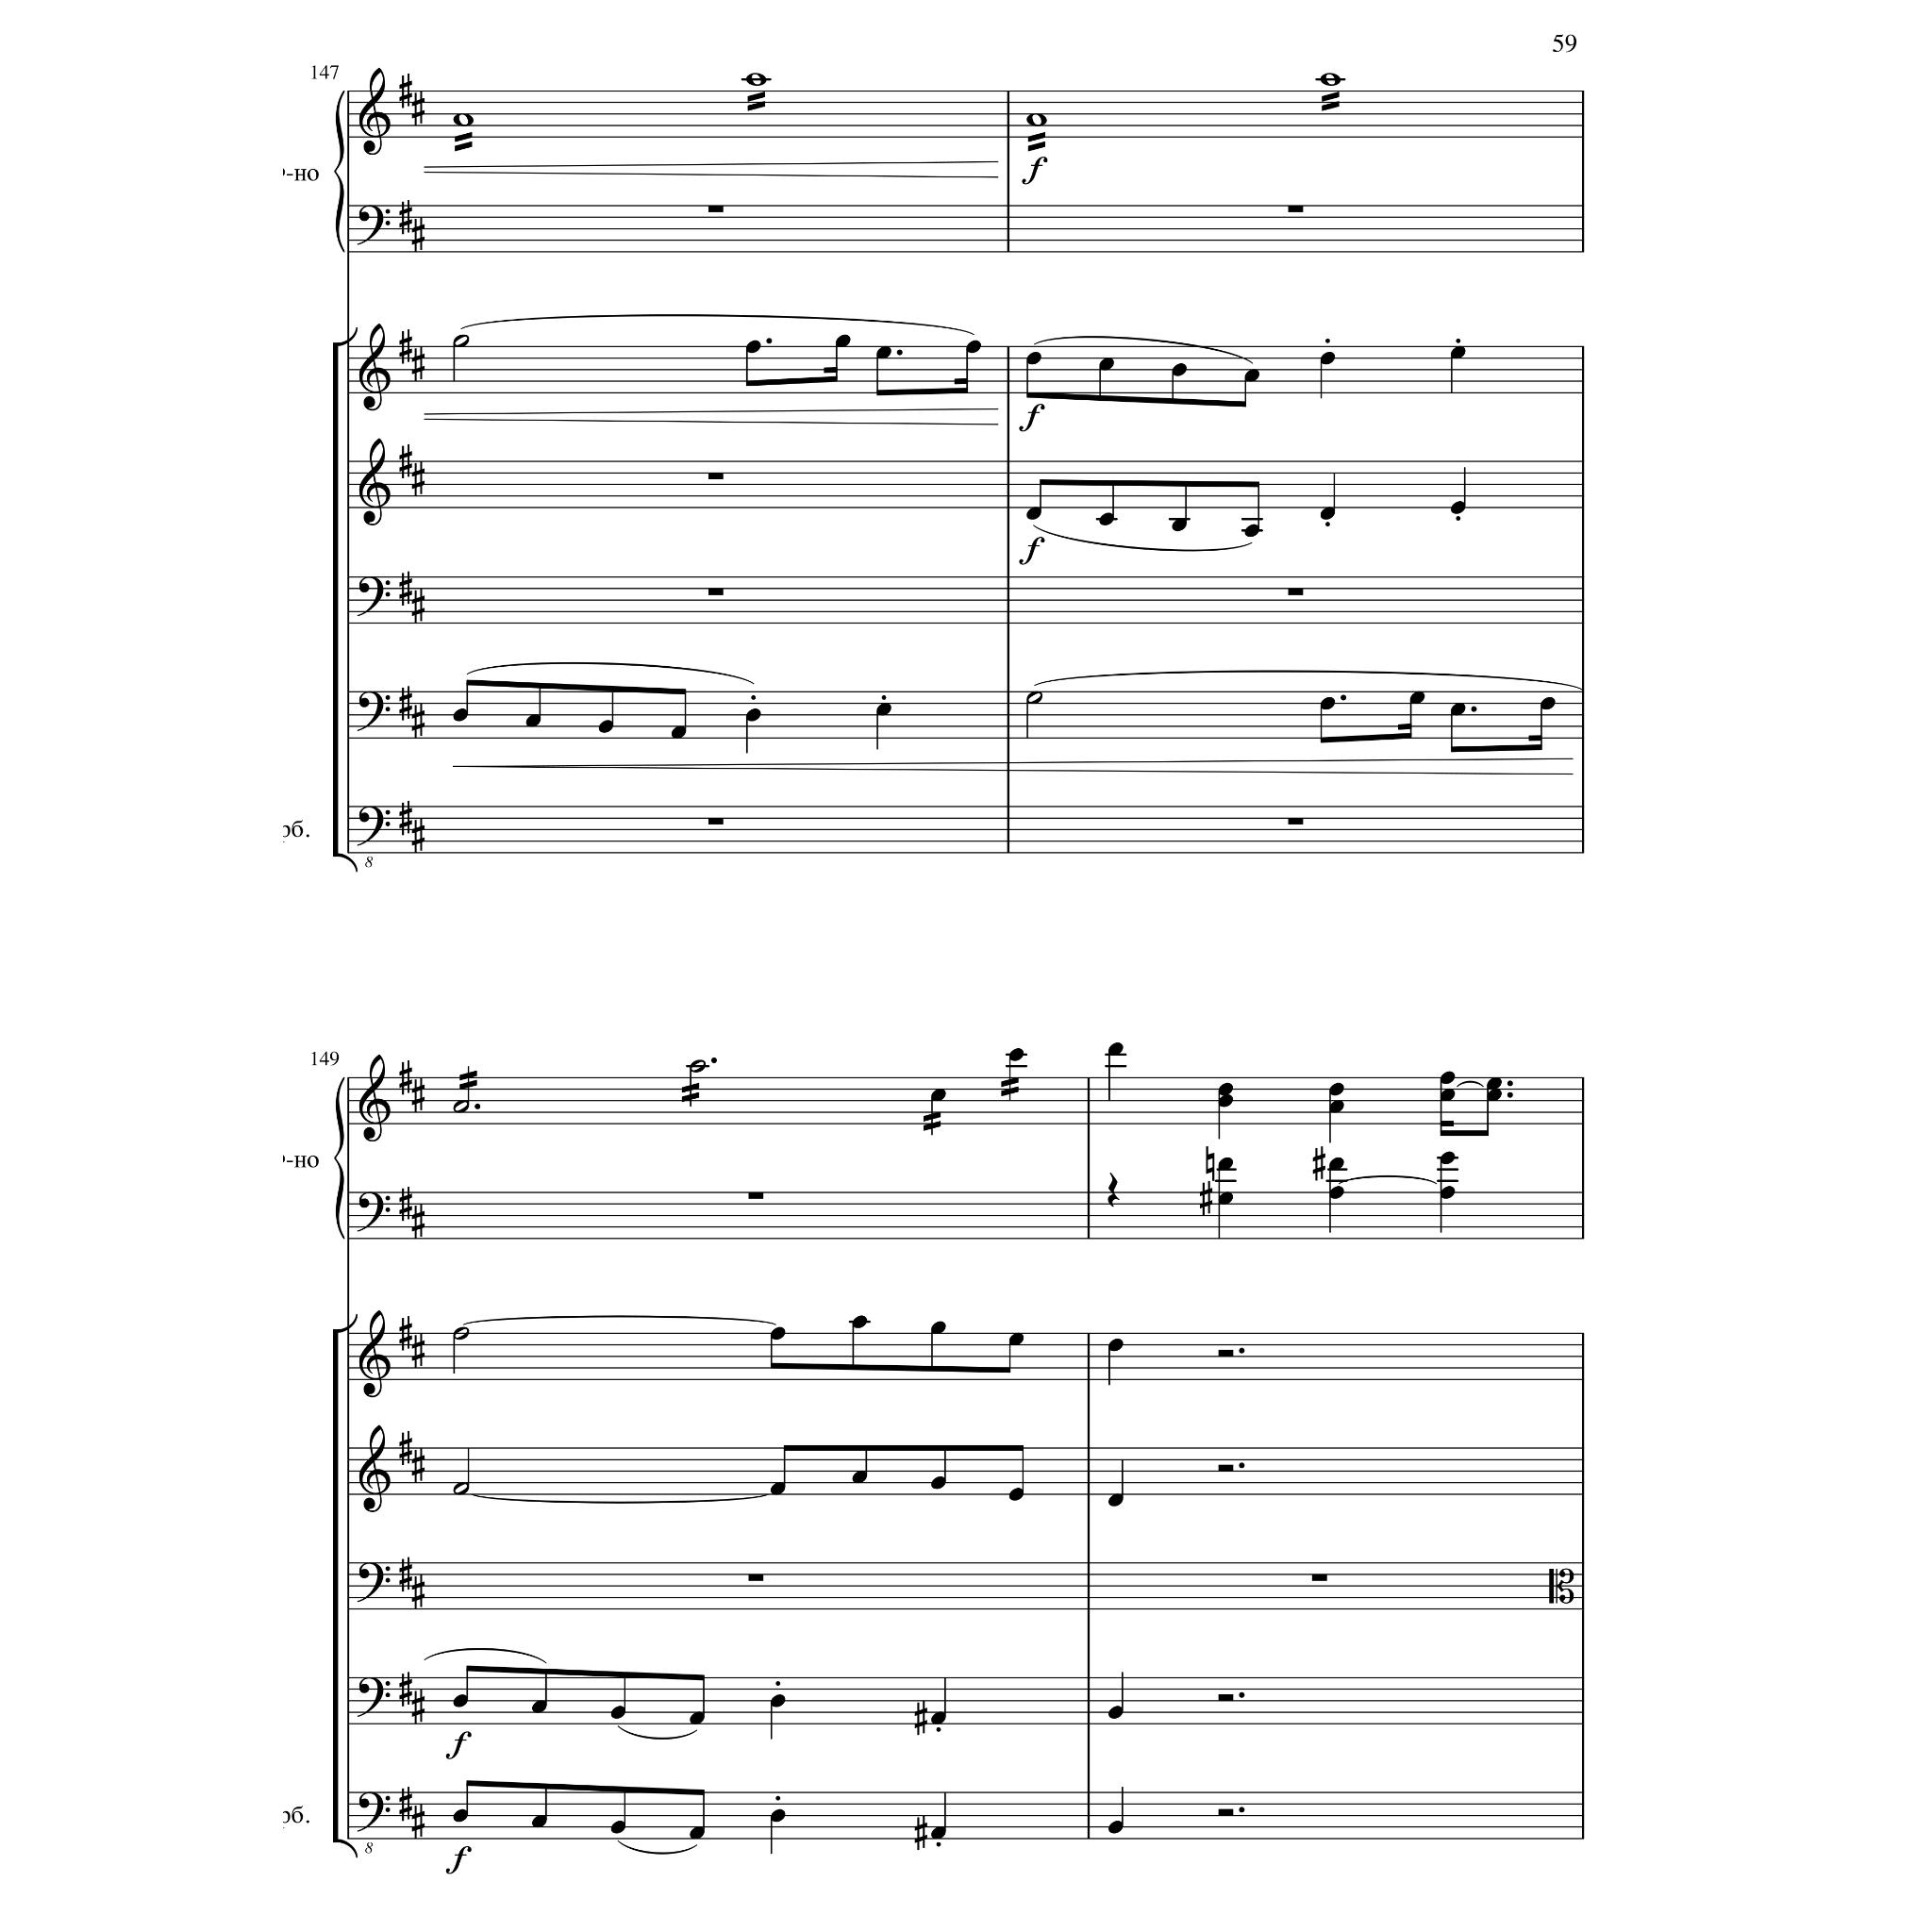brace: (333, 91, 344, 253), (333, 1077, 344, 1240)
fClef: (357, 806, 391, 847), (357, 691, 391, 732), (357, 577, 391, 617), (357, 206, 391, 245), (357, 1792, 391, 1832), (357, 1677, 391, 1717), (357, 1562, 391, 1602), (357, 1192, 391, 1232)
gClef: (358, 438, 391, 526), (358, 324, 391, 412), (358, 67, 391, 156), (358, 1424, 391, 1513), (358, 1309, 391, 1398), (358, 1054, 391, 1142)
noteheadBlack: (1319, 351, 1336, 366), (525, 713, 541, 728), (1217, 1191, 1234, 1206), (966, 340, 981, 355), (1026, 351, 1041, 366), (745, 340, 760, 355), (1108, 1041, 1123, 1057), (1440, 1151, 1455, 1166), (770, 1481, 785, 1496), (1319, 508, 1336, 521), (1243, 525, 1260, 538), (1243, 370, 1260, 383), (1319, 697, 1336, 710), (1098, 513, 1115, 526), (1098, 358, 1115, 371), (875, 703, 892, 716), (875, 346, 892, 359), (834, 335, 851, 348), (670, 725, 687, 739), (1008, 1048, 1024, 1061), (1217, 1158, 1234, 1171), (1217, 1083, 1234, 1096), (1217, 1094, 1234, 1108), (1008, 1488, 1024, 1501), (1008, 1333, 1024, 1346), (1328, 1083, 1345, 1096), (1328, 1100, 1345, 1113), (1328, 1186, 1345, 1199), (1328, 1158, 1345, 1171), (609, 1821, 626, 1834), (609, 1706, 626, 1719), (530, 1815, 547, 1828), (530, 1700, 547, 1713), (930, 1826, 947, 1840), (930, 1711, 947, 1724), (930, 1476, 947, 1490), (930, 1322, 947, 1335), (930, 1089, 947, 1102), (851, 1471, 868, 1484), (851, 1315, 868, 1328), (689, 1826, 706, 1840), (689, 1711, 706, 1724), (1172, 519, 1187, 532), (1172, 363, 1187, 376), (1409, 691, 1424, 705), (1540, 697, 1555, 710), (1451, 703, 1466, 716), (1451, 501, 1466, 514), (1451, 346, 1466, 359), (453, 708, 468, 722), (1026, 508, 1041, 521), (745, 708, 760, 722), (598, 720, 613, 733), (1108, 1339, 1123, 1352), (1108, 1821, 1123, 1834), (1108, 1706, 1123, 1719), (1108, 1493, 1123, 1507), (1487, 1077, 1502, 1091), (1440, 1072, 1455, 1085), (1487, 1089, 1502, 1102), (1440, 1186, 1455, 1199), (1440, 1089, 1455, 1102), (453, 1808, 468, 1822), (453, 1694, 468, 1707), (770, 1808, 785, 1822), (770, 1694, 785, 1707), (770, 1327, 785, 1341)
noteheadHalf: (452, 1481, 469, 1496), (452, 335, 469, 348), (1025, 691, 1042, 705), (452, 1327, 469, 1341), (452, 1100, 469, 1113), (689, 1060, 706, 1074)
noteheadWhole: (1319, 74, 1341, 87), (453, 113, 474, 126), (1026, 113, 1047, 126), (745, 74, 766, 87)
restHalf: (1217, 1694, 1234, 1702), (1217, 1808, 1234, 1816), (1217, 1464, 1234, 1472), (1217, 1350, 1234, 1357)
restQuarter: (1108, 1172, 1119, 1207)
restWhole: (1287, 818, 1304, 825), (1287, 589, 1304, 596), (1287, 206, 1304, 213), (747, 1574, 764, 1581), (747, 1192, 764, 1200), (708, 818, 723, 825), (708, 589, 723, 596), (708, 473, 723, 480), (708, 206, 723, 213), (1311, 1574, 1326, 1581)
